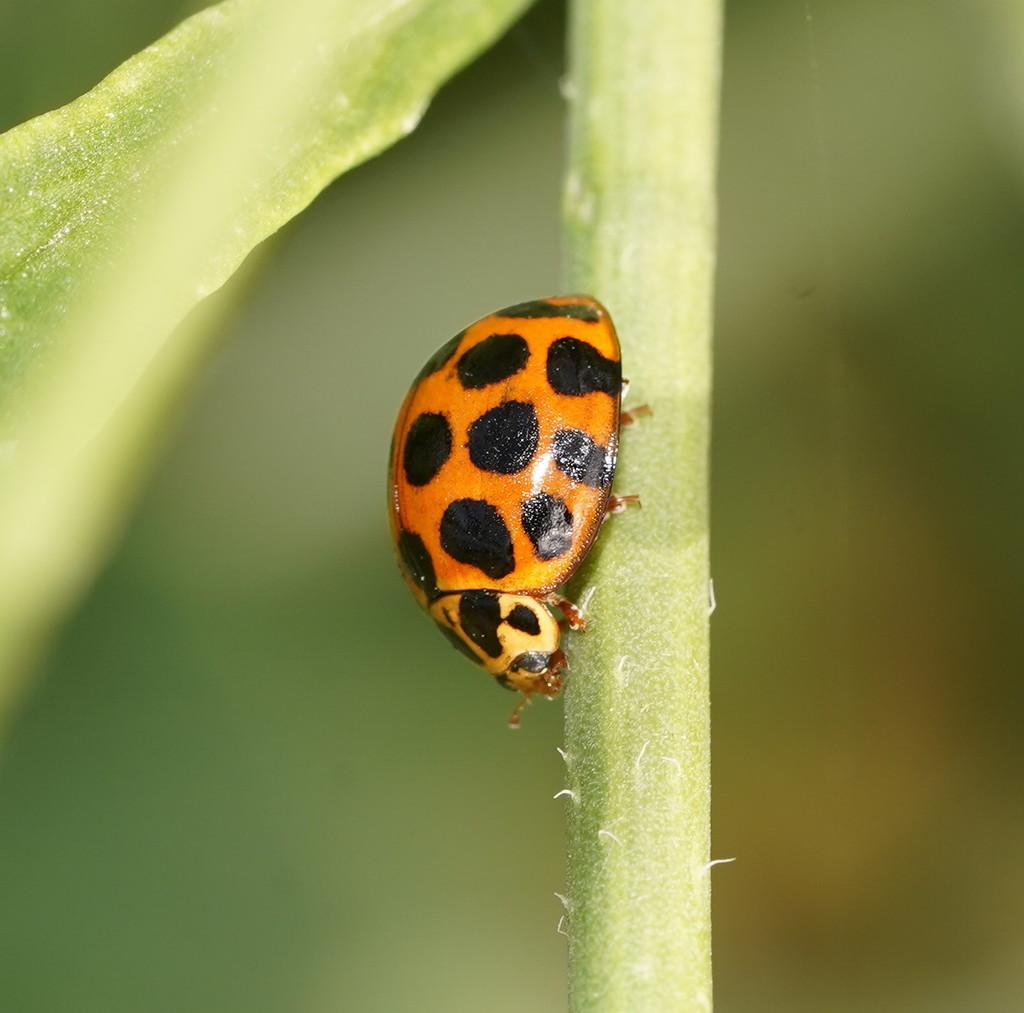ladybug: (389, 294, 654, 734)
